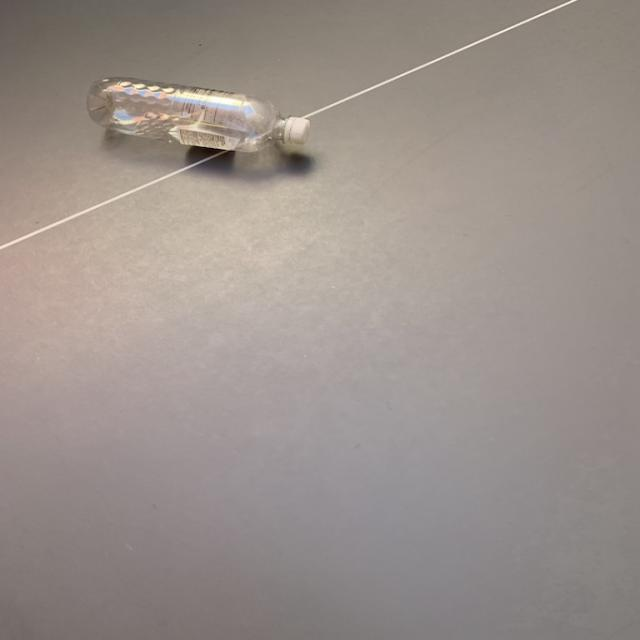litter: (90, 72, 314, 163)
